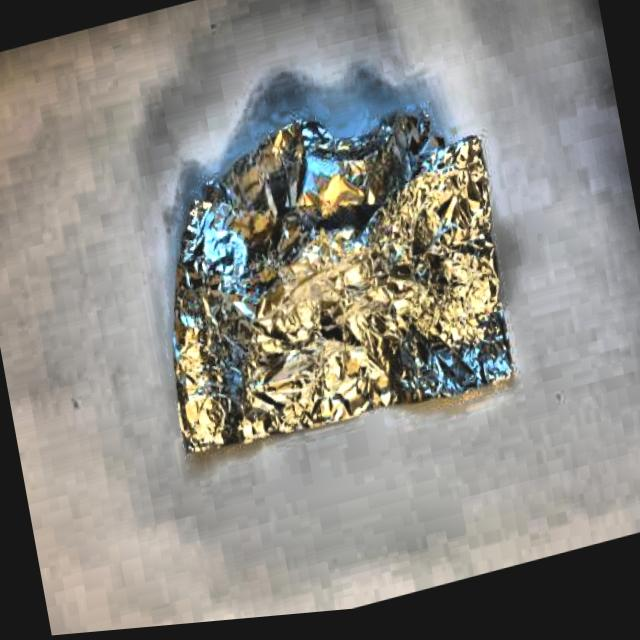Foil: (132, 75, 536, 499)
